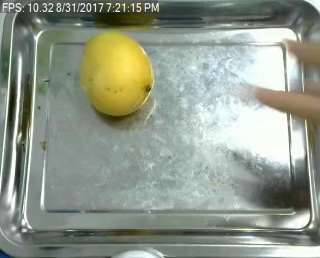Mango: (75, 31, 153, 116)
